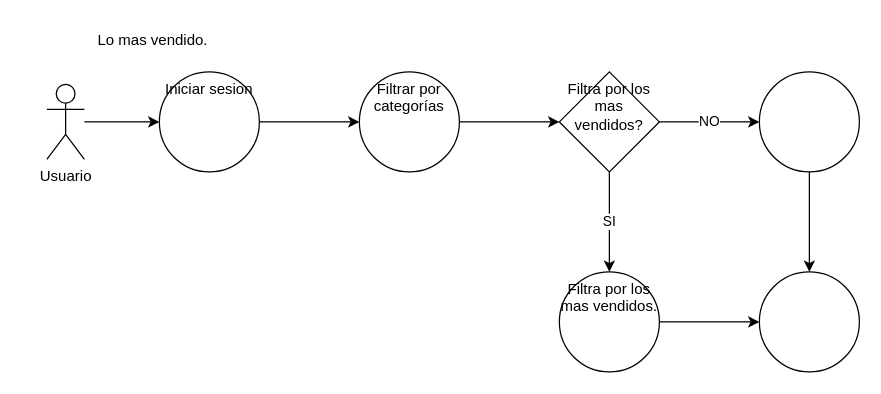
Image size: 881x394. Some labels were removed from this diagram. Each missing label, with the centre of its shape:
Ejecuta proceso por la categoría filtrada: (x=808, y=121)
Fin: (x=808, y=321)
